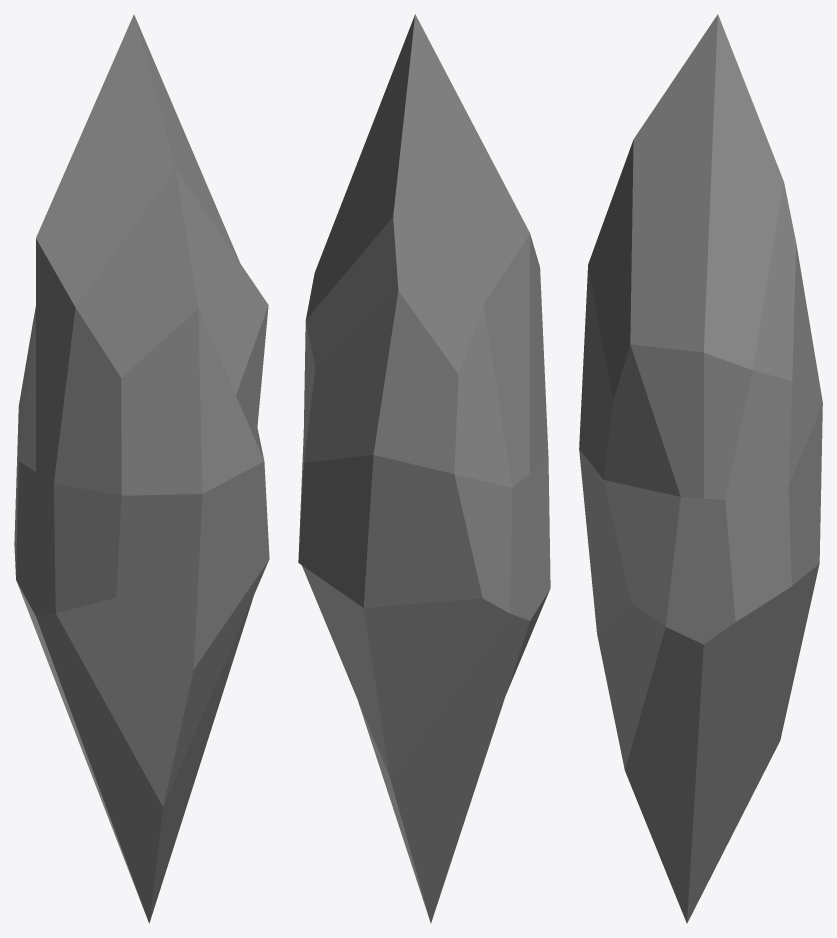
The model's file is itemCrystal2.obj.
3 views of the same model, side by side, from view 1: azimuth 30°, elevation 25°; view 2: azimuth 150°, elevation 25°; view 3: azimuth 270°, elevation 25° (orthographic). The views are drawn at different scales.
Parts seen in each view (by area): view 1: Cube; view 2: Cube; view 3: Cube.
Boxes of the visible parts, box(x1,y1,x2,y2) form: Cube: box(14, 14, 269, 923); Cube: box(298, 14, 550, 923); Cube: box(579, 14, 822, 923).
Bounding box in the file's own units: 1.63 × 6.67 × 1.62.
1 material, 1 textured.
